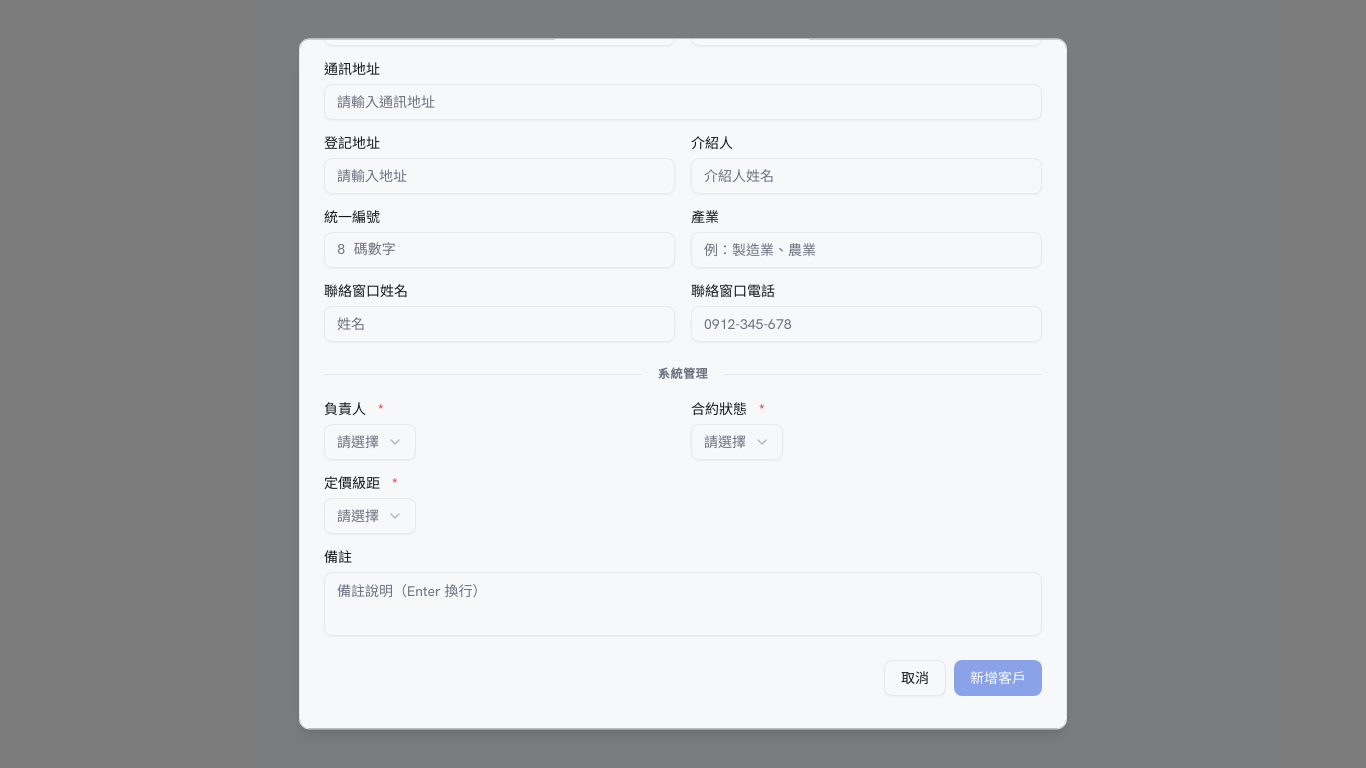
Test case: CustomerModal 的必填判斷 › 負責人不會自動帶入，選了才會從缺少清單消失
The image size is (1366, 768).
(page scrolled)
Step 1. Click the dropdown with test id "customer-modal-managerId" → (370, 443), box [324,425,416,461]
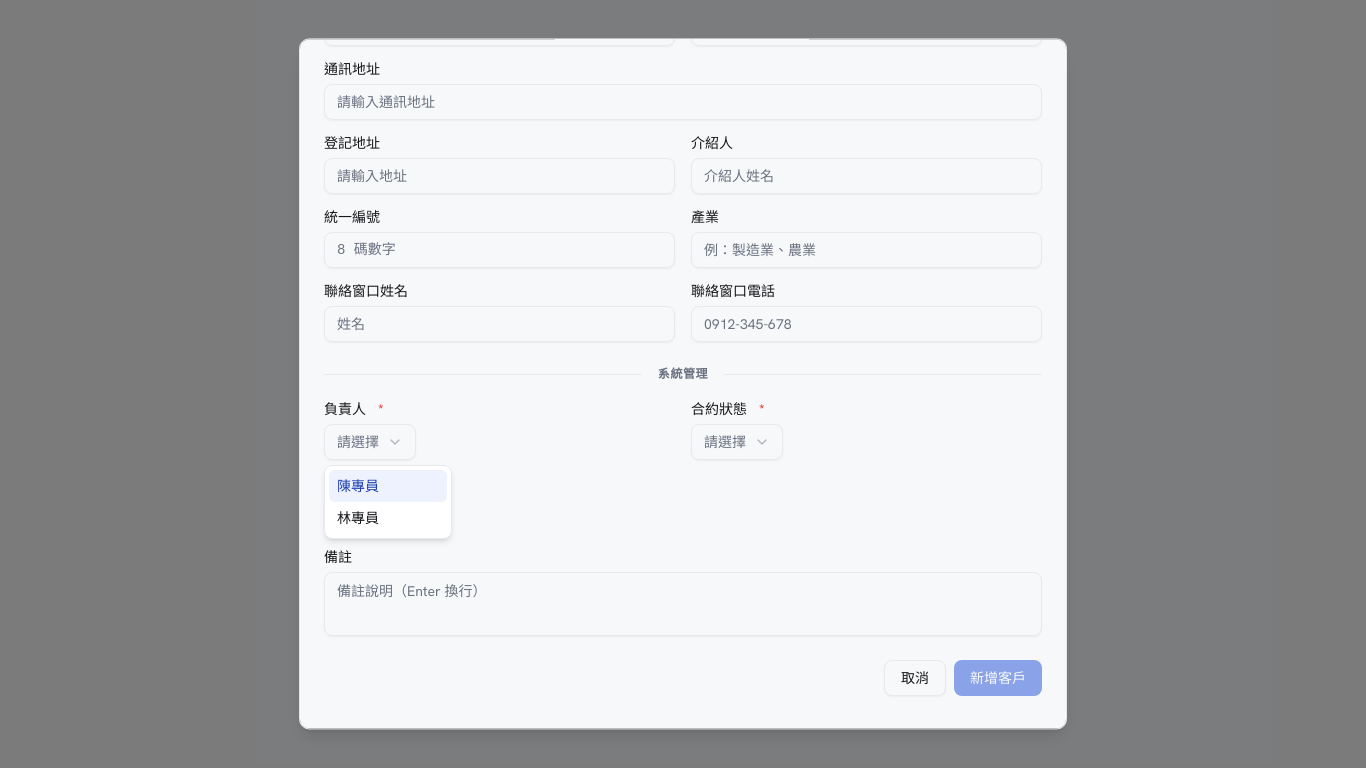
Step 2. Click the option "陳專員" → (388, 486), box [329,470,447,502]
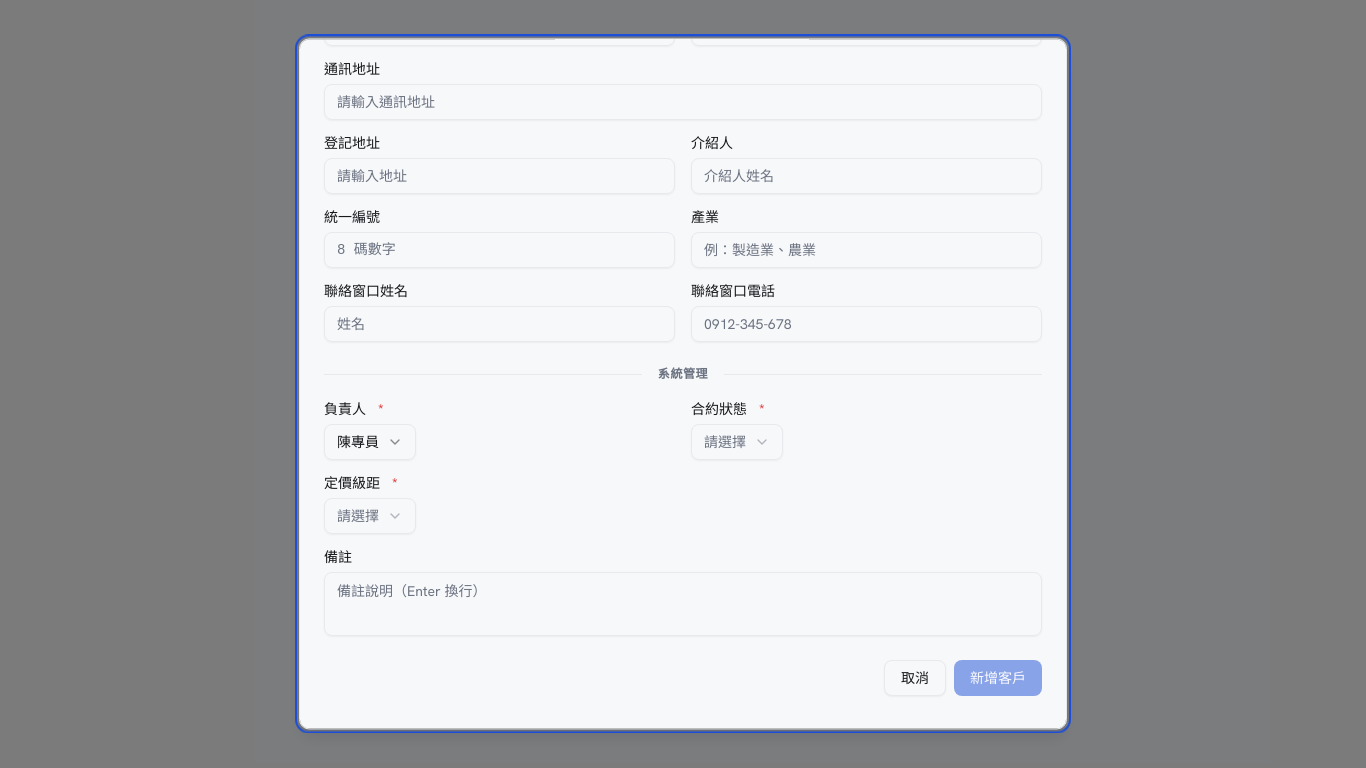
Step 3. Hover over the element with test id "customer-modal-submit-wrap" → (998, 679), box [954,661,1042,697]
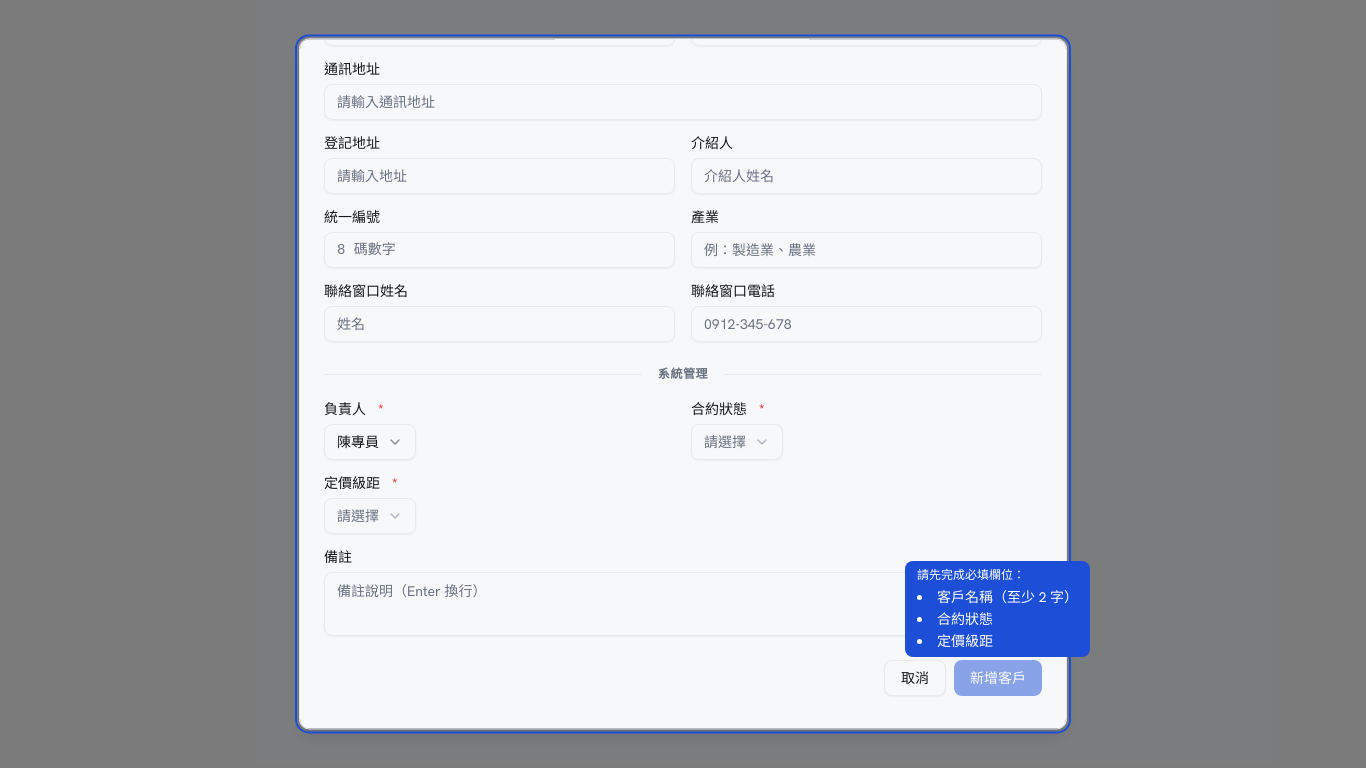
Expected: the tooltip does not show "負責人", [905,561,1090,657]
Result: the tooltip shows "合約狀態" at [937,610,993,628]
